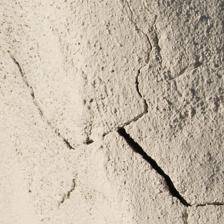Crack: (92, 61, 197, 142), (38, 59, 115, 164)
